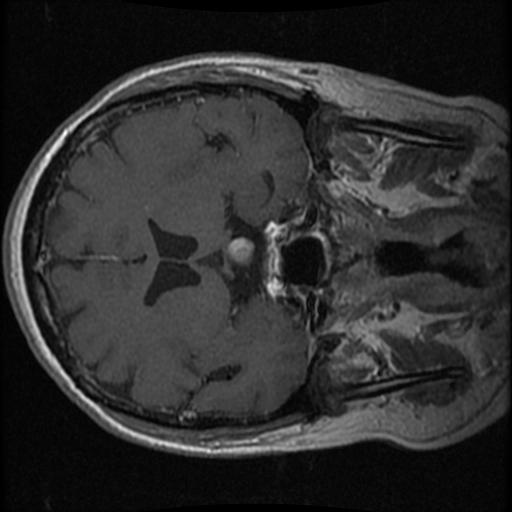pituitary tumour: (223, 236, 255, 265)
